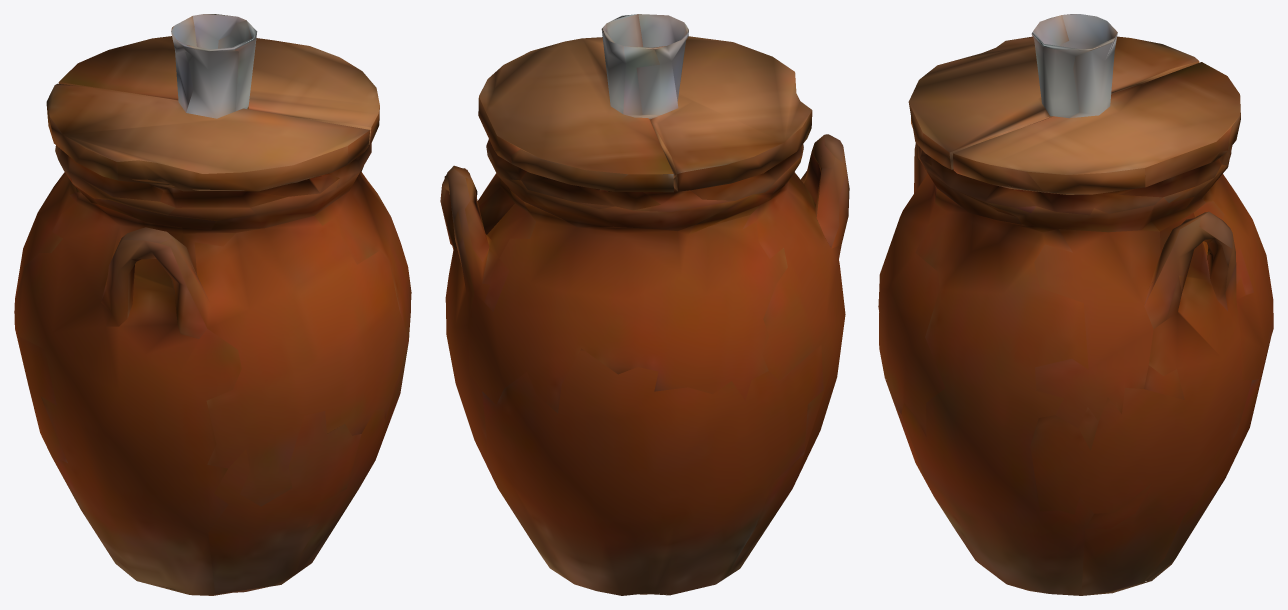
The model's file is tinaja.movil.glb.
3 renders of one model, left to right at view 1: azimuth 30°, elevation 25°; view 2: azimuth 150°, elevation 25°; view 3: azimuth 270°, elevation 25°, orthographic.
Parts seen in each view (by area): view 1: geometry_0; view 2: geometry_0; view 3: geometry_0.
Boxes of the visible parts, <box> form: geometry_0: <box>14,14,411,595</box>; geometry_0: <box>440,14,849,595</box>; geometry_0: <box>878,14,1273,595</box>.
Bounding box in the file's own units: 0.55 × 0.8 × 0.5471.
Materials: 1 (1 with a texture image).
